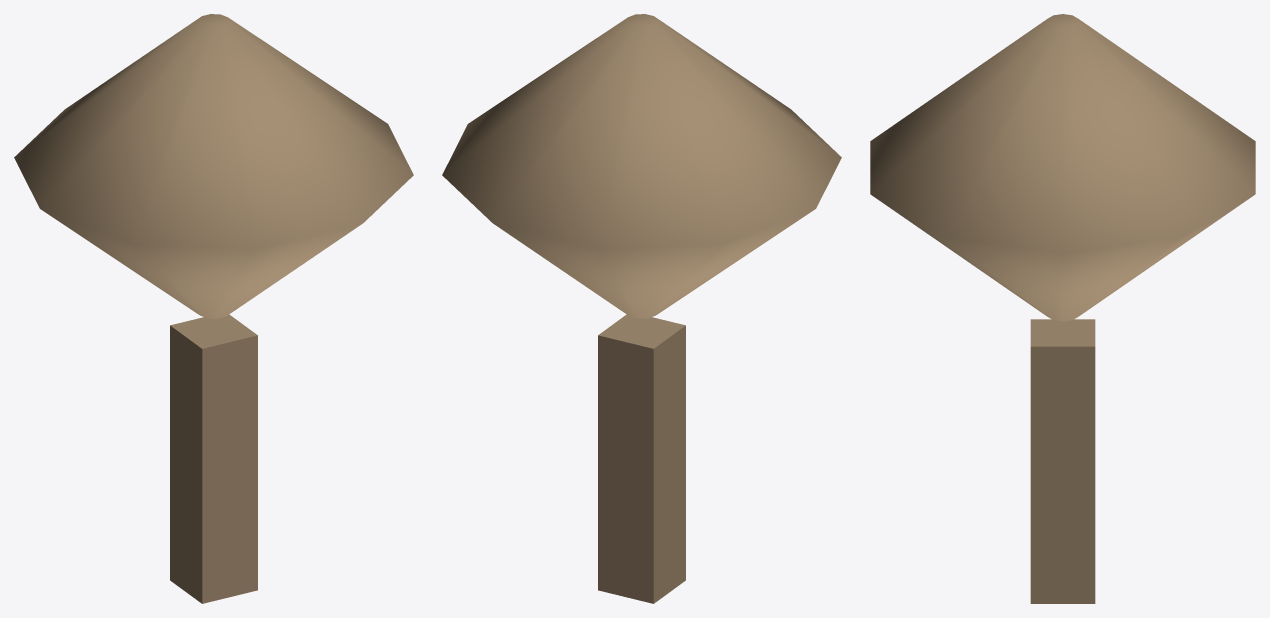
Rendered from 03_tree.glb.
3 views of the same model, side by side, from view 1: azimuth 30°, elevation 25°; view 2: azimuth 150°, elevation 25°; view 3: azimuth 270°, elevation 25° (orthographic).
Parts seen in each view (by area): view 1: green_03_tree; view 2: green_03_tree; view 3: green_03_tree.
Part boxes in pixels (bbox=[...]): green_03_tree: bbox=[14, 14, 413, 603]; green_03_tree: bbox=[442, 14, 841, 603]; green_03_tree: bbox=[870, 14, 1255, 603].
Bounding box in the file's own units: 0.5 × 0.776 × 0.4755.
